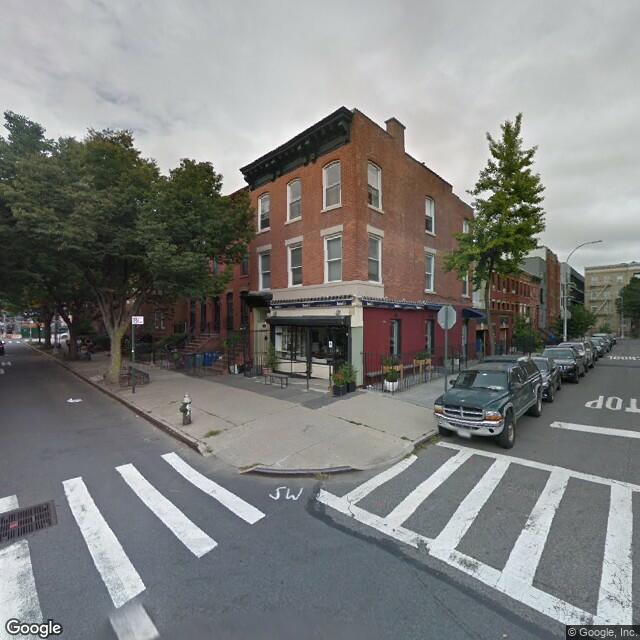litter: (67, 393, 92, 404)
